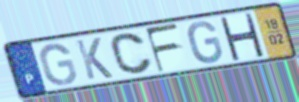C: (109, 32, 155, 77)
F: (143, 21, 182, 74)
G: (38, 42, 79, 87), (186, 20, 225, 65)
H: (217, 12, 266, 61)
K: (73, 36, 116, 81)
